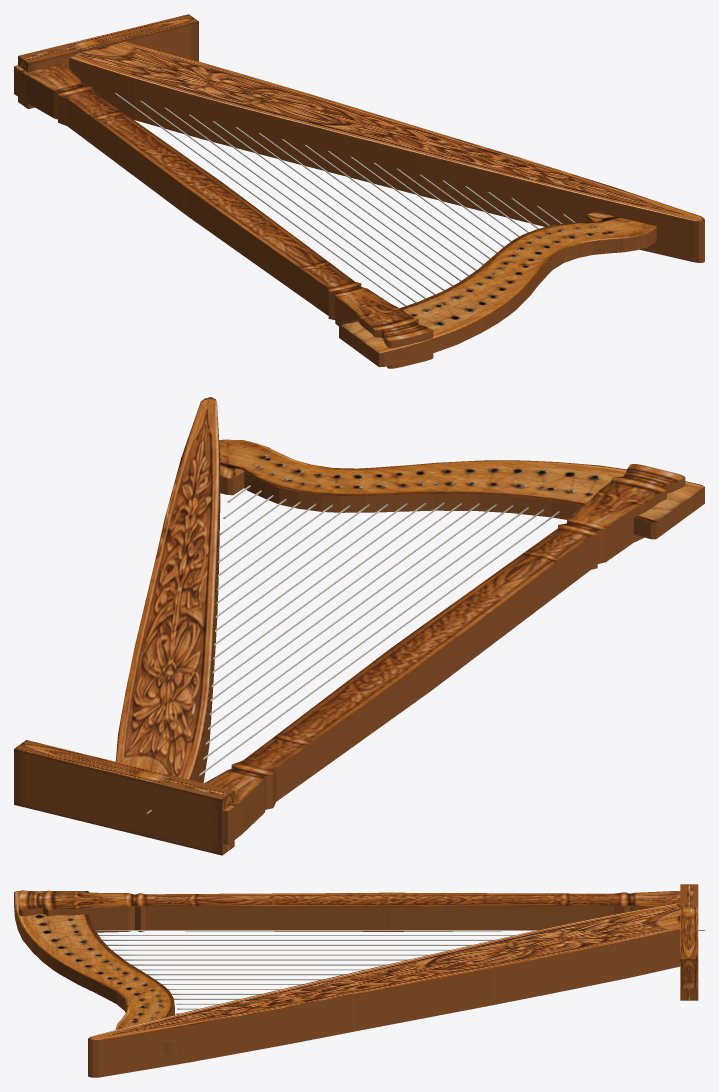
The model's file is Instrument_Harp.glb.
3 renders of one model, top to bottom at view 1: azimuth 30°, elevation 25°; view 2: azimuth 150°, elevation 25°; view 3: azimuth 270°, elevation 25°, orthographic. The views are drawn at different scales.
Visible parts, largest first — view 1: model_Instrument_Harp; view 2: model_Instrument_Harp; view 3: model_Instrument_Harp.
Boxes of the visible parts, x1,y1,x2,y2 form: model_Instrument_Harp: (14,14,704,368); model_Instrument_Harp: (14,397,704,855); model_Instrument_Harp: (14,884,704,1077).
Bounding box in the file's own units: 0.8395 × 0.1 × 1.51.
Materials: 1 (1 with a texture image).
